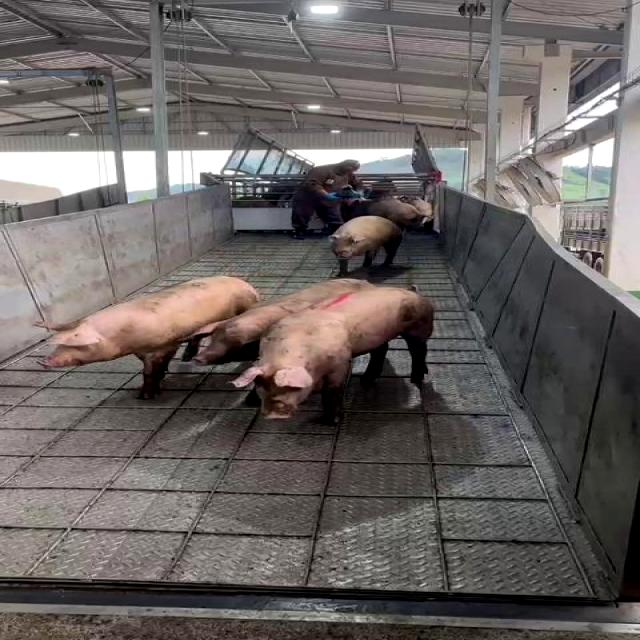pig: (234, 288, 433, 424), (39, 278, 259, 398), (192, 279, 372, 365), (330, 216, 403, 276)
